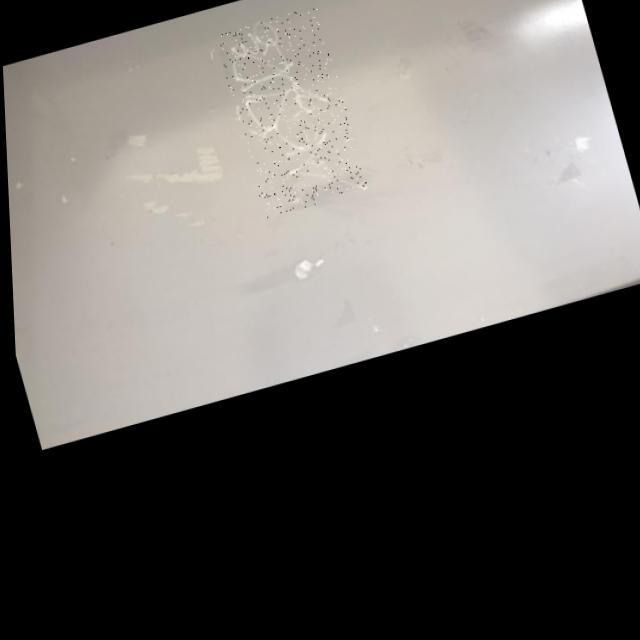-: (213, 7, 367, 222)
